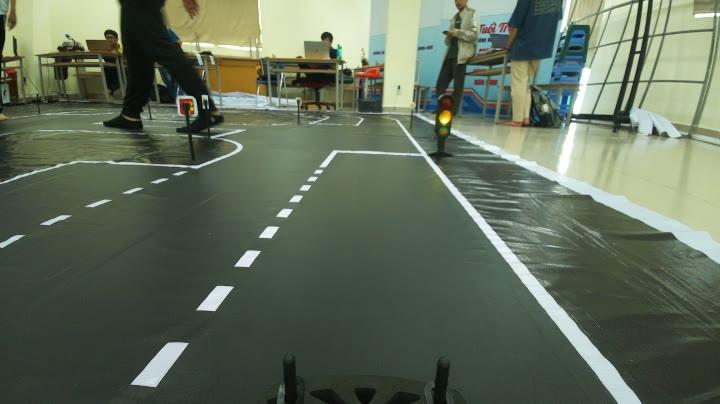trafficlight: (421, 88, 458, 162)
